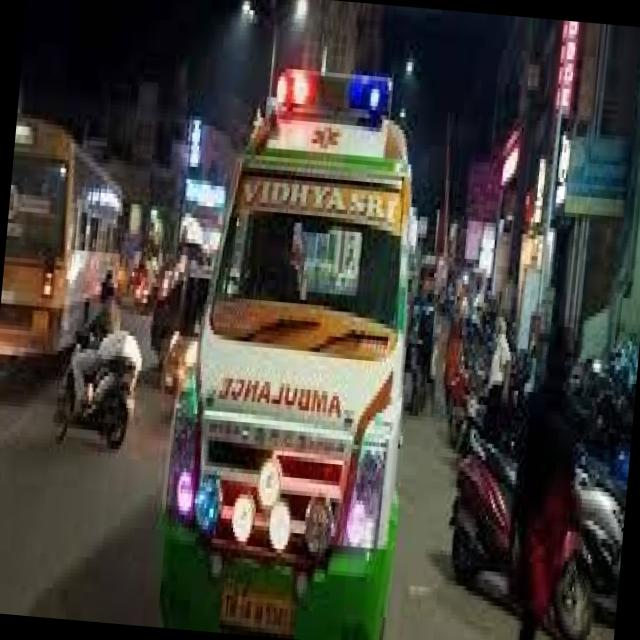ambulance: (154, 59, 436, 640)
